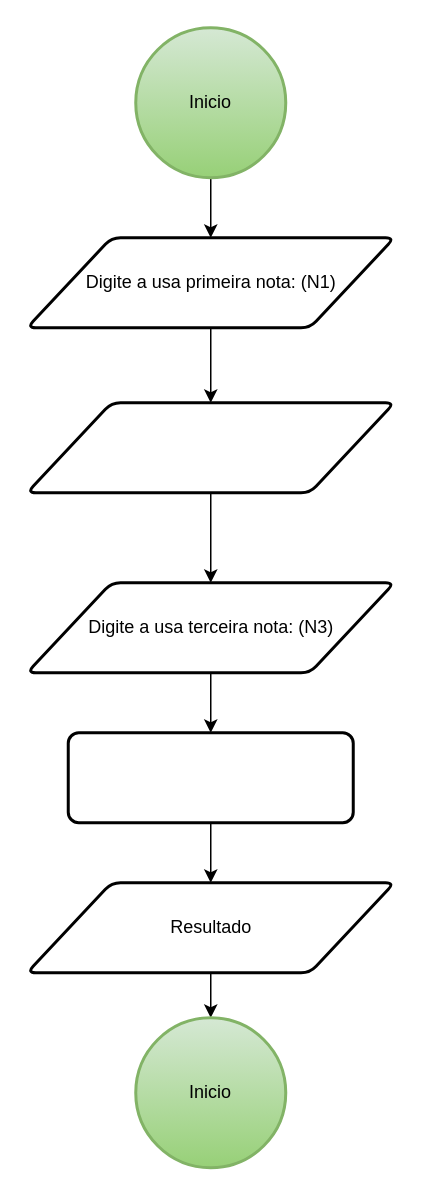
This 422x1194 diagram has some shape labels left out. Here are the shapes that lost their labels. From the top down, the centre of each, then its label:
At [210,447]: "Digite a usa segunda nota: (N2)".
At [210,777]: "Calculo".
